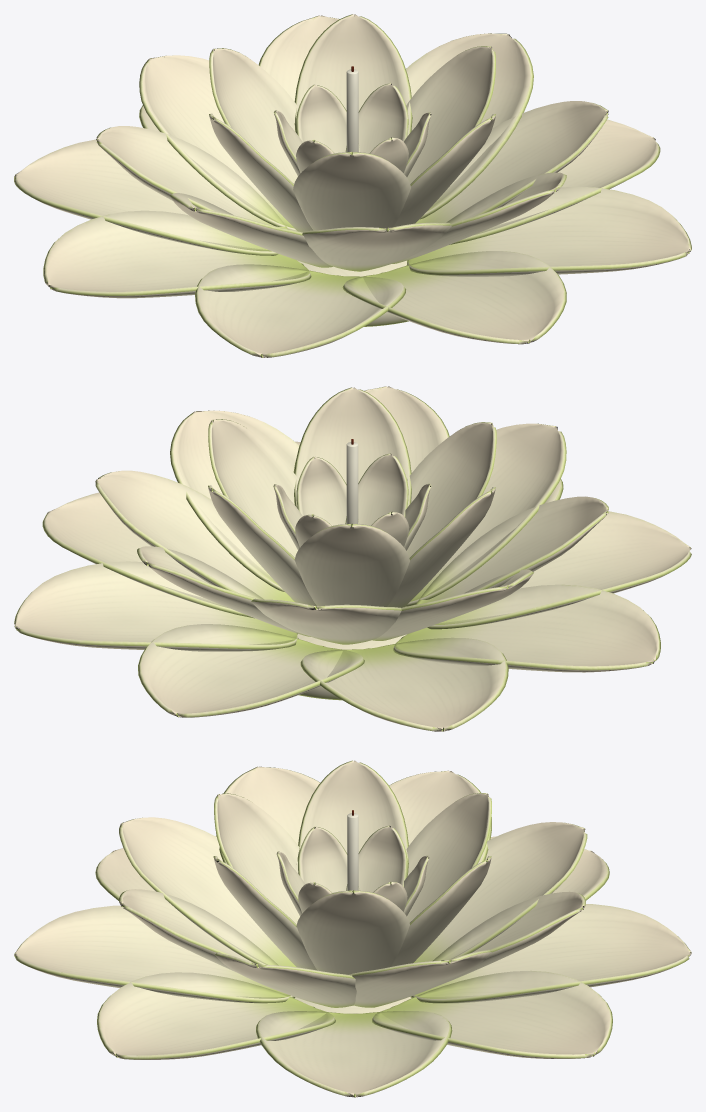
Rendered from krathong.glb.
3 renders of one model, top to bottom at view 1: azimuth 30°, elevation 25°; view 2: azimuth 150°, elevation 25°; view 3: azimuth 270°, elevation 25°, orthographic. The views are drawn at different scales.
Visible parts, largest first — view 1: Krathong_WebMesh; view 2: Krathong_WebMesh; view 3: Krathong_WebMesh.
Part boxes in pixels (x1,y1,x2,y2): Krathong_WebMesh: [14, 14, 691, 357]; Krathong_WebMesh: [14, 386, 691, 731]; Krathong_WebMesh: [14, 760, 691, 1097].
Size of the model in its own units: 0.2615 by 0.086 by 0.2615.
Materials: 1 (1 with a texture image).
